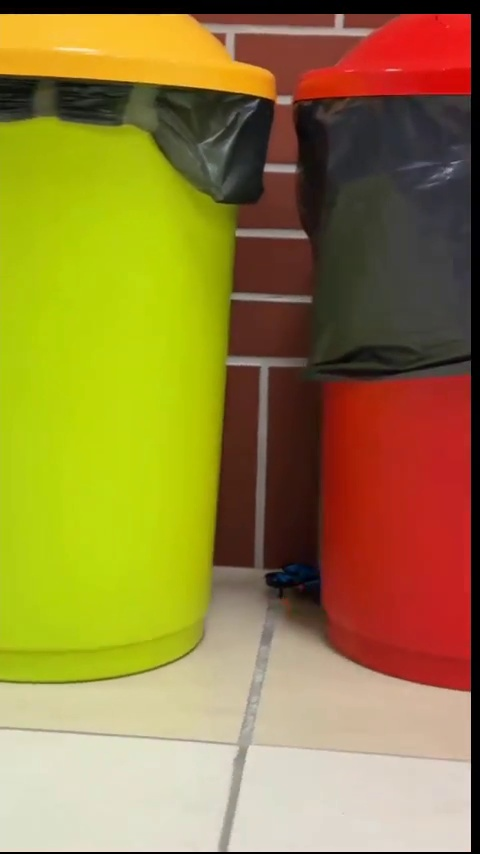drone: (263, 561, 314, 597)
